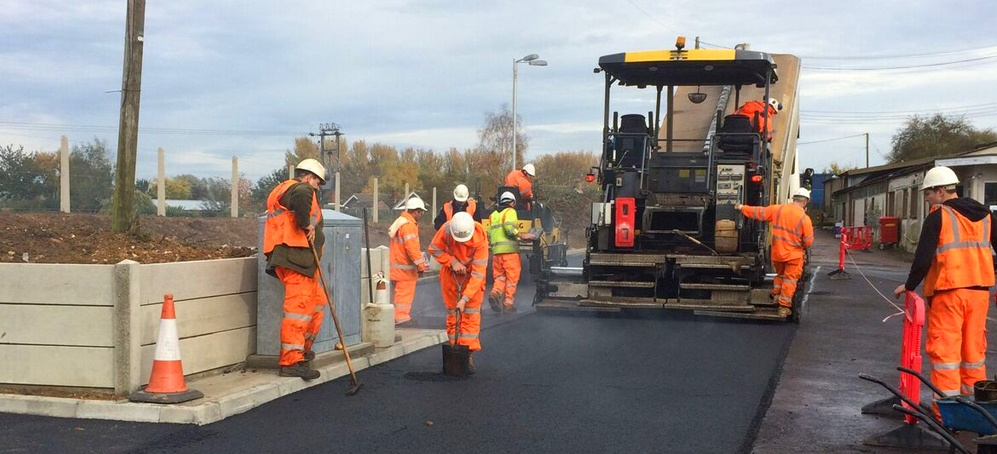white: (922, 165, 958, 208), (292, 154, 326, 192), (448, 210, 476, 243), (404, 195, 425, 219), (452, 184, 471, 206), (791, 186, 809, 207), (764, 96, 779, 117), (500, 191, 518, 208), (520, 161, 536, 179)
